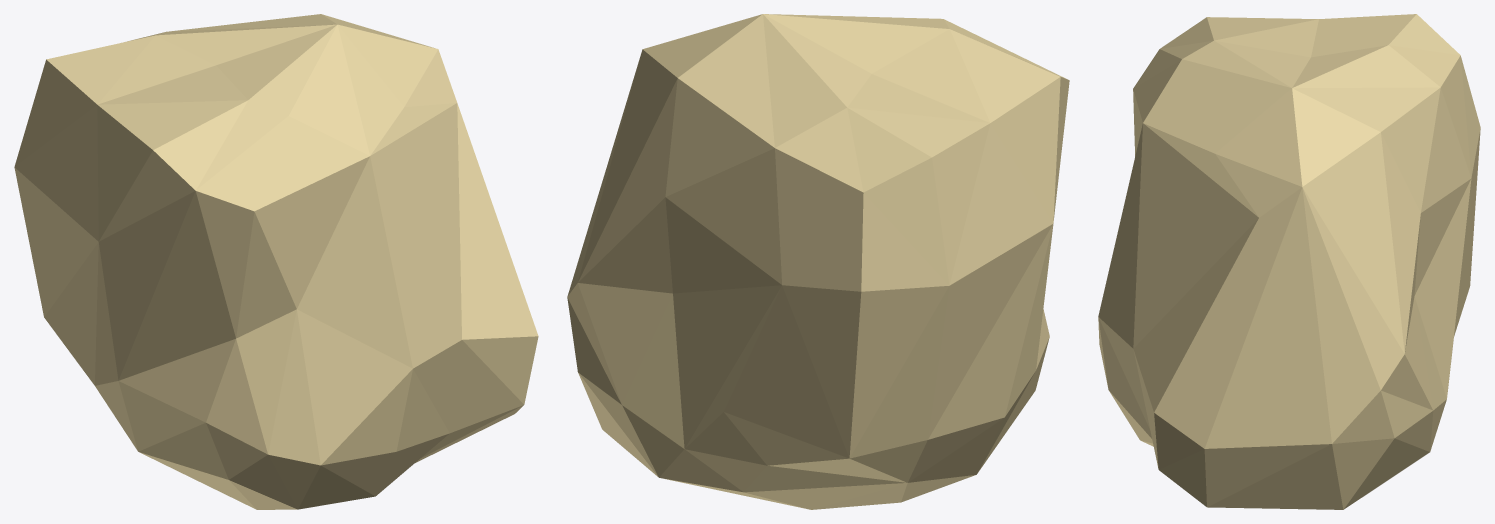
File: Rock (58).fbx
3 renders of one model, left to right at view 1: azimuth 30°, elevation 25°; view 2: azimuth 150°, elevation 25°; view 3: azimuth 270°, elevation 25°, orthographic. The views are drawn at different scales.
Parts seen in each view (by area): view 1: Asteroid57; view 2: Asteroid57; view 3: Asteroid57.
Part boxes in pixels (bbox=[...]): Asteroid57: bbox=[14, 14, 538, 509]; Asteroid57: bbox=[567, 14, 1069, 509]; Asteroid57: bbox=[1098, 14, 1480, 509].
Size of the model in its own units: 147 by 154 by 129.
